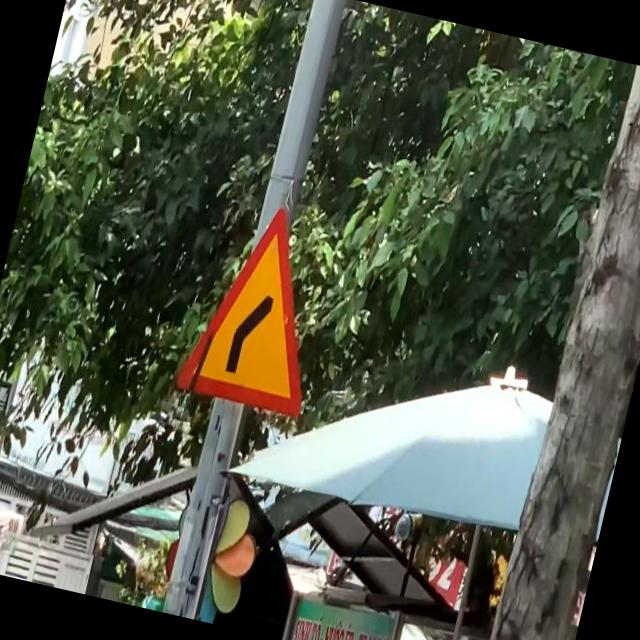W-201b: (174, 192, 343, 416)
